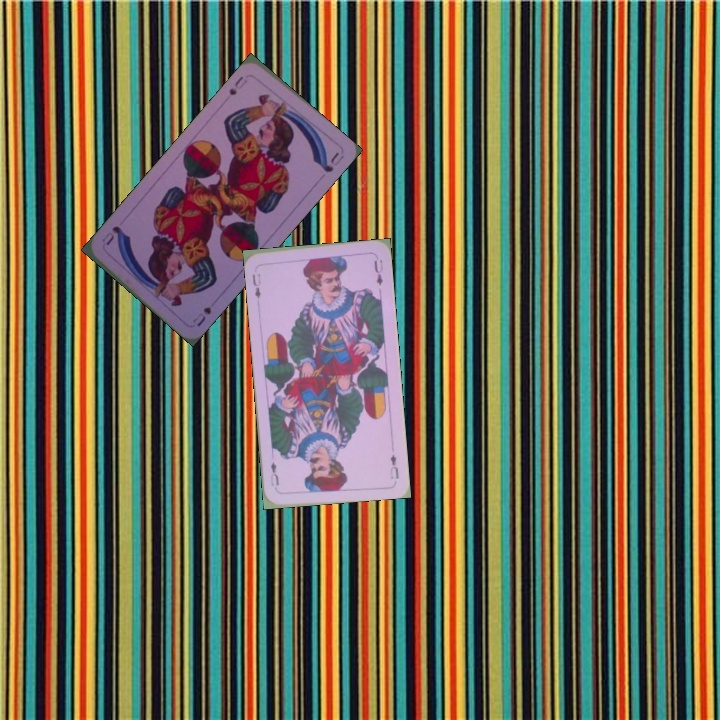EU: (248, 264, 264, 301), (386, 450, 401, 481)
SU: (188, 302, 214, 329), (225, 72, 250, 98)
